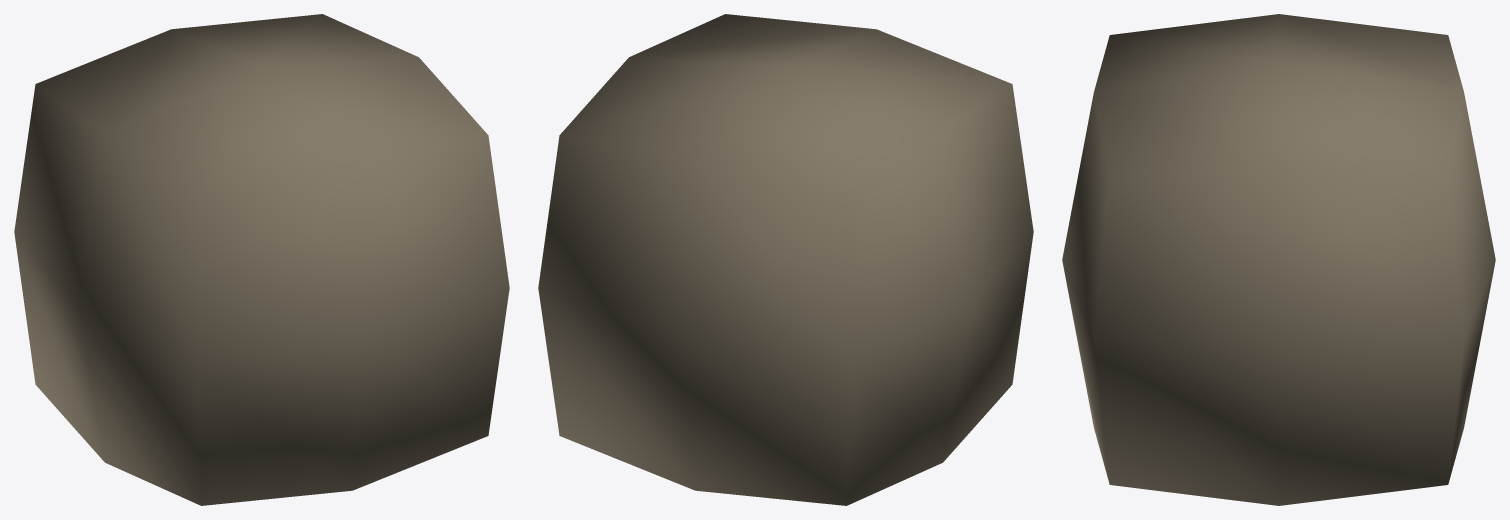
The model's file is Rock.fbx.
3 renders of one model, left to right at view 1: azimuth 30°, elevation 25°; view 2: azimuth 150°, elevation 25°; view 3: azimuth 270°, elevation 25°, orthographic. The views are drawn at different scales.
Visible parts, largest first — view 1: Rock; view 2: Rock; view 3: Rock.
Part boxes in pixels (x1,y1,x2,y2): Rock: (14, 14, 509, 505); Rock: (538, 14, 1033, 505); Rock: (1062, 14, 1495, 505).
Bounding box in the file's own units: 200 × 200 × 200.
